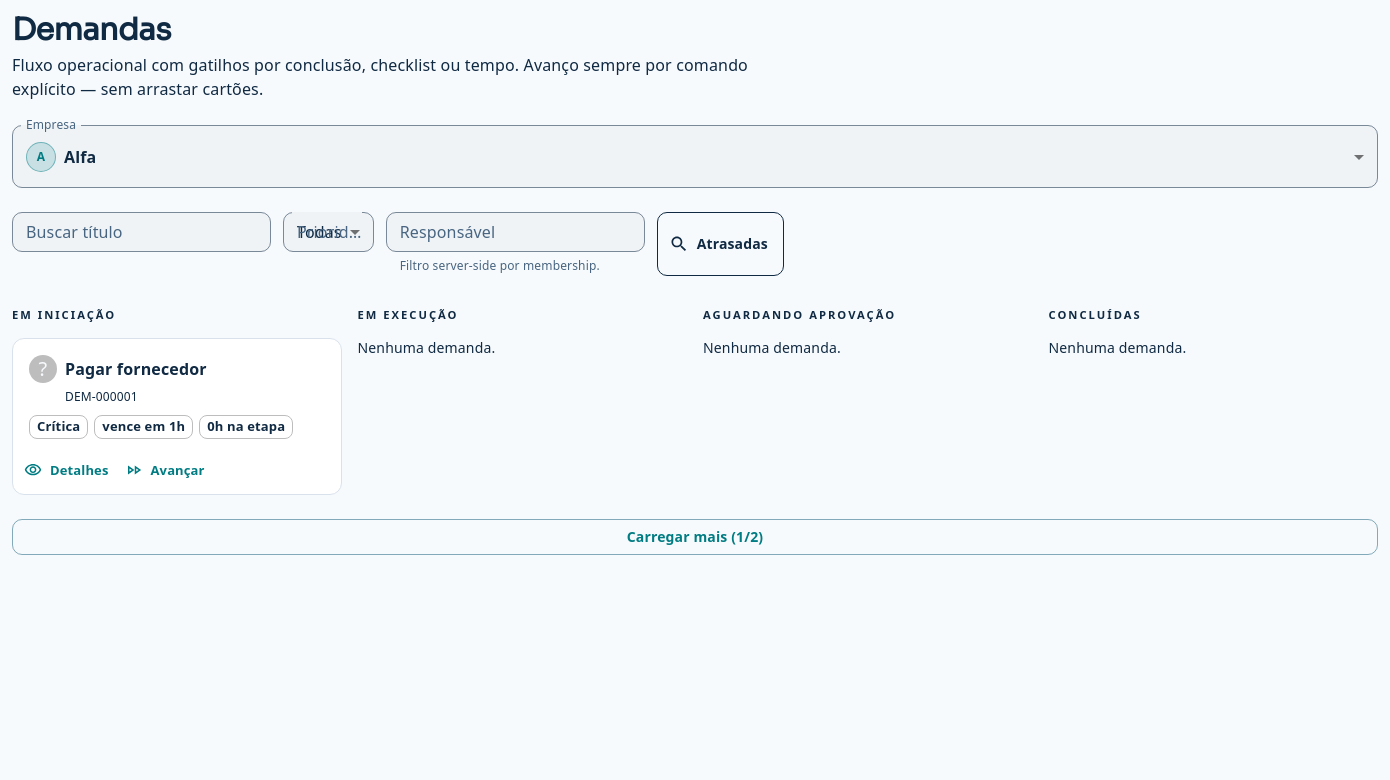
DemandasPage › appends the next page through the load-more affordance and hides it at the end
Check: the heading "Pagar fornecedor" is shown, box [65,358,207,380]
Click the button with test id "demandas-load-more" at (695, 537), box [12,518,1378,555]
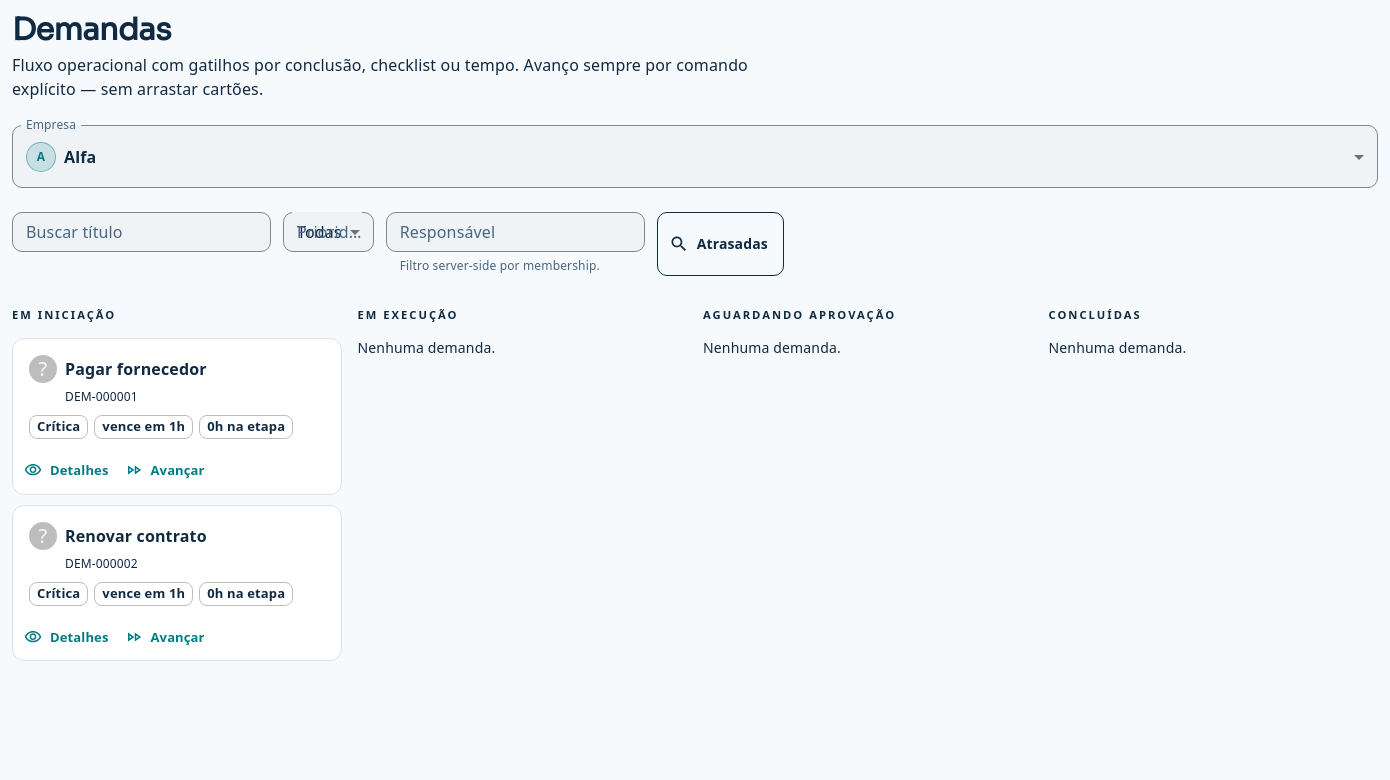
Check: the heading "Pagar fornecedor" is shown, box [65,358,207,380]
Check: the heading "Renovar contrato" is shown, box [65,524,207,546]
Check: the button with test id "demandas-load-more" is gone
